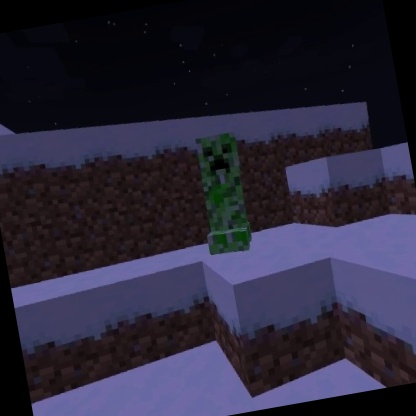creeper: (186, 129, 259, 261)
